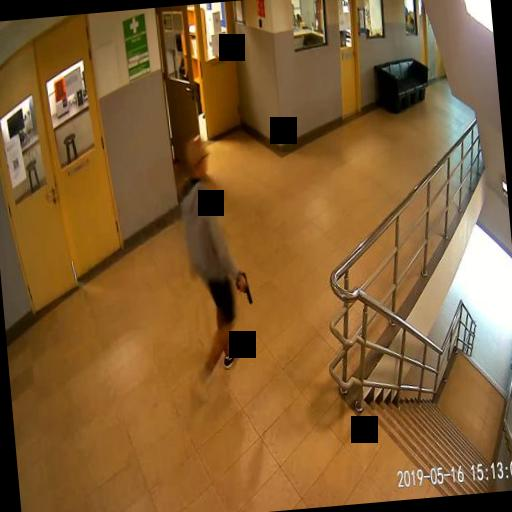Handgun: (234, 271, 251, 303)
